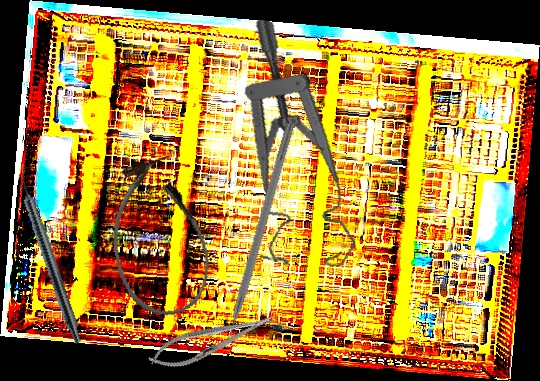Cannula: (100, 152, 217, 323)
Chopper: (208, 119, 296, 353)
Handpiece: (11, 164, 88, 346)
Needle Holder: (144, 304, 280, 377)
Speculum: (210, 18, 395, 277)
